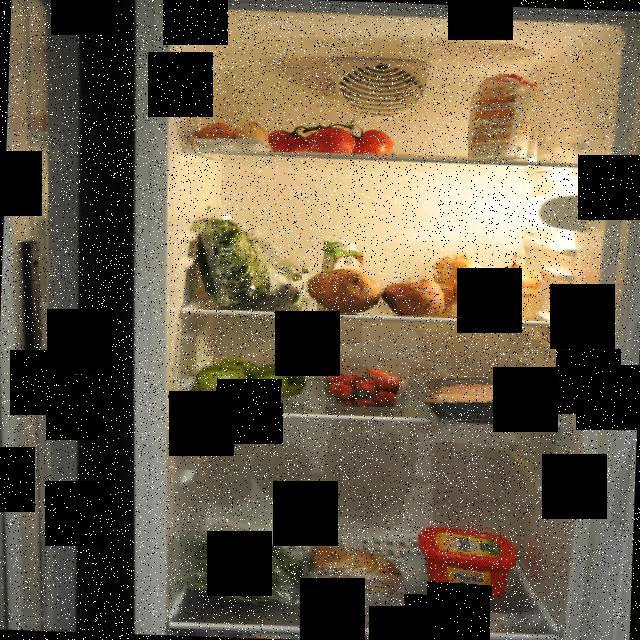apple: (192, 353, 310, 403)
bread: (300, 536, 404, 592)
butter: (414, 522, 516, 596)
chicken_breast: (418, 376, 546, 424)
eggs: (193, 119, 270, 151)
green_beans: (186, 532, 303, 606)
heavy_cream: (322, 236, 366, 302)
onion: (424, 248, 542, 318)
spinach: (190, 210, 311, 310)
strawberries: (320, 359, 408, 407)
sugar: (468, 70, 544, 164)
sweet_potato: (302, 261, 455, 315)
tomato: (260, 122, 396, 158)
